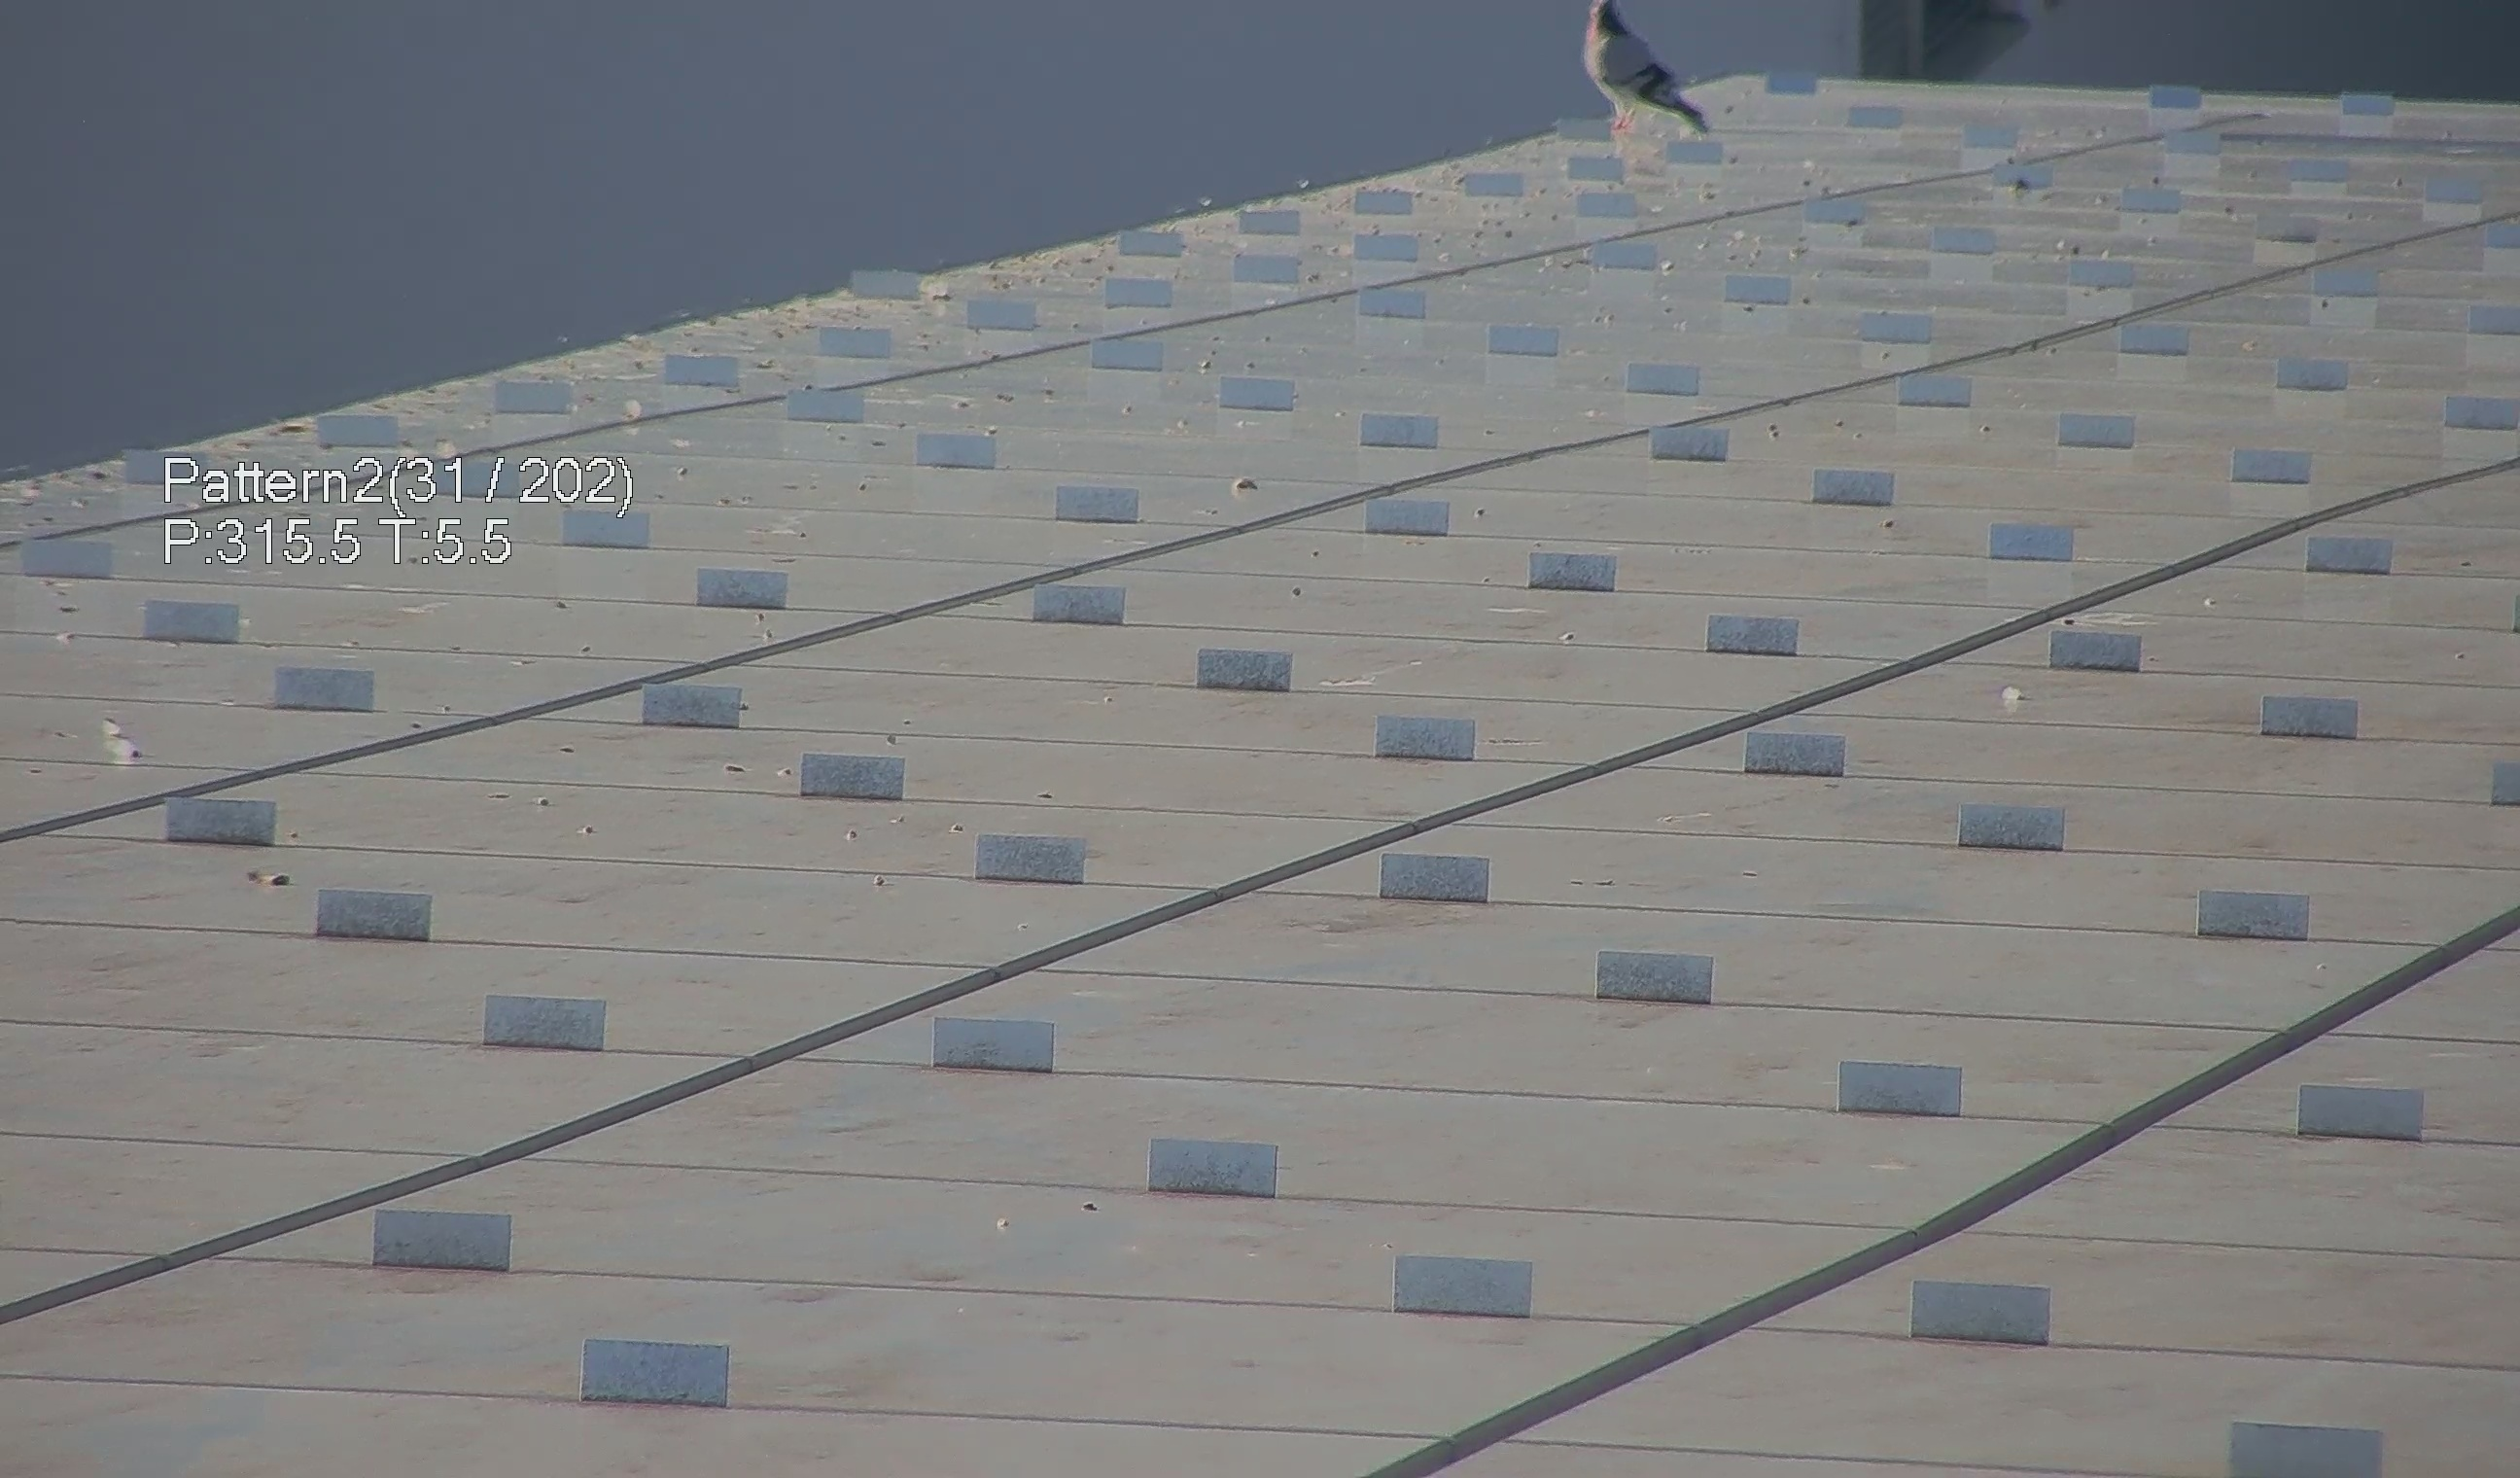Pigeon: (1574, 0, 1725, 150)
